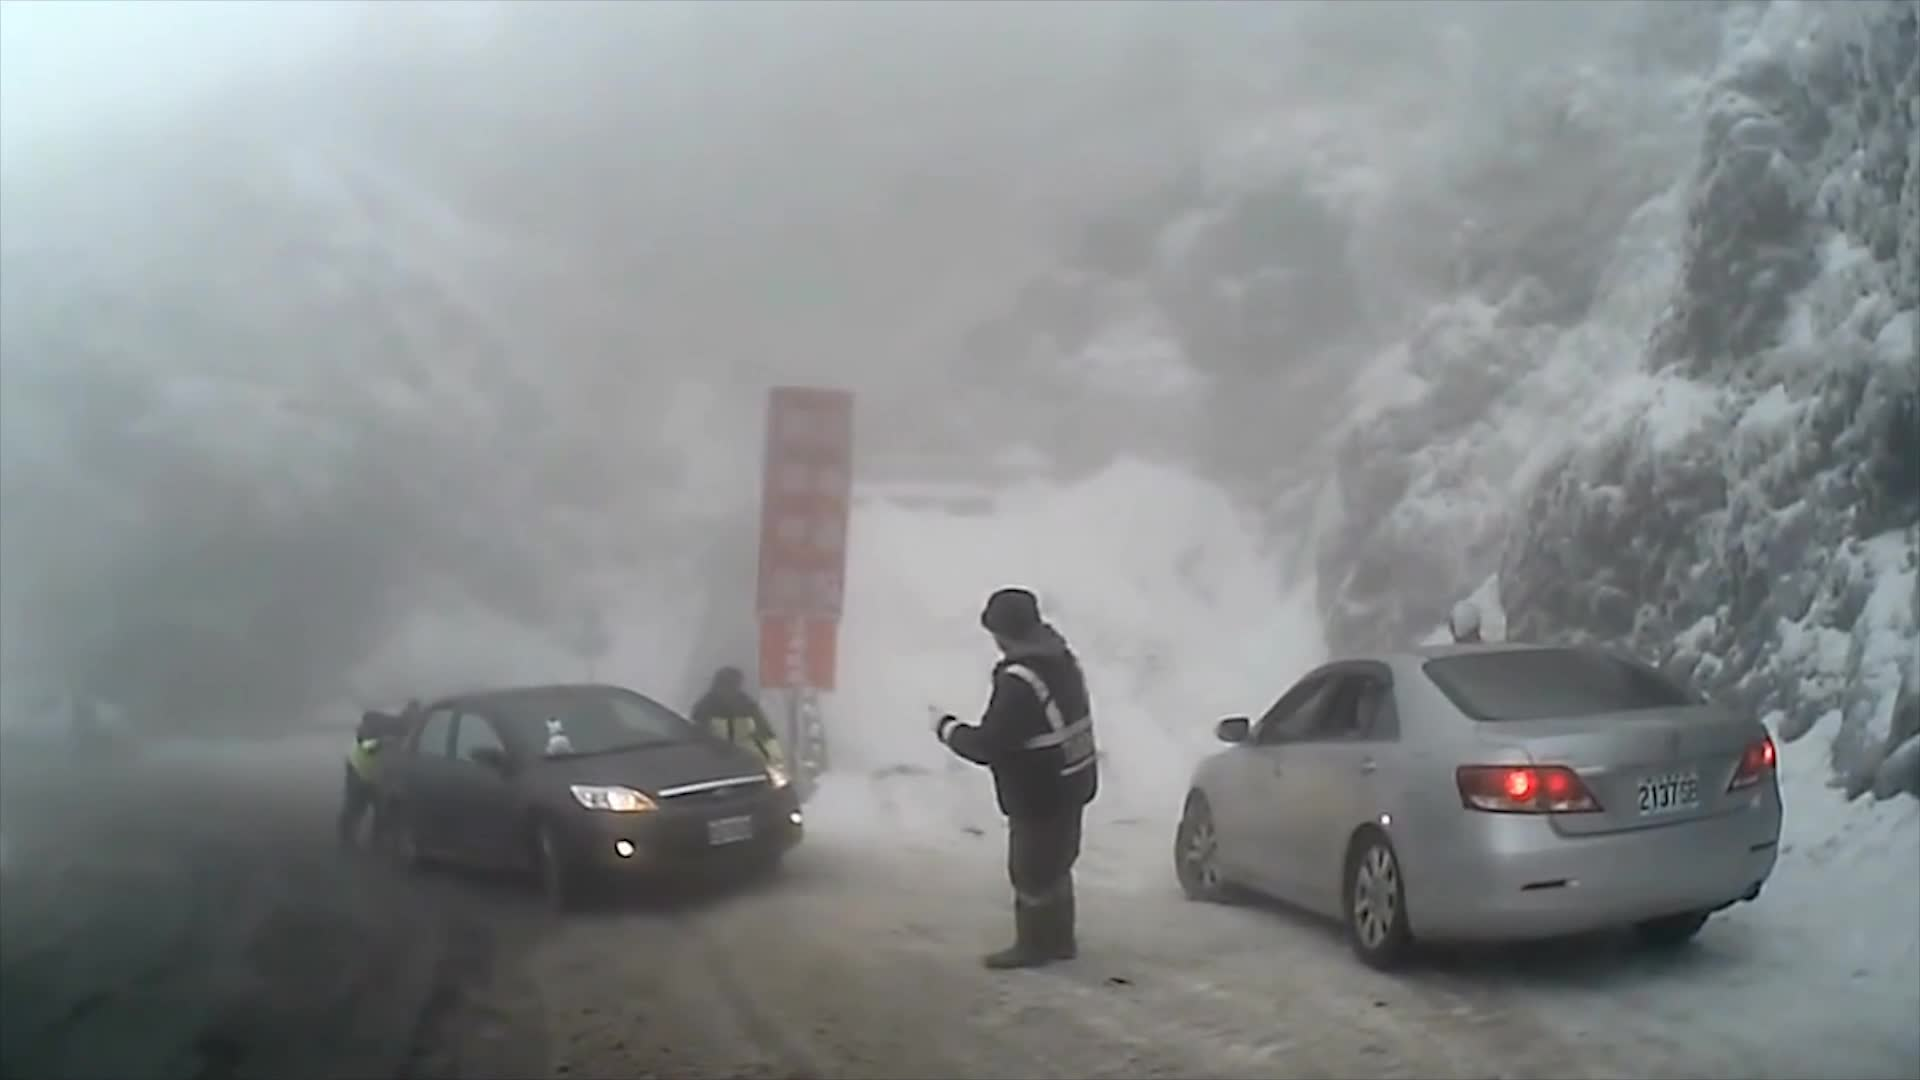pedestrian: (931, 590, 1098, 976), (1435, 611, 1513, 829), (690, 669, 782, 829), (341, 712, 421, 852)
vehicle: (1172, 644, 1782, 975), (373, 679, 804, 908)
